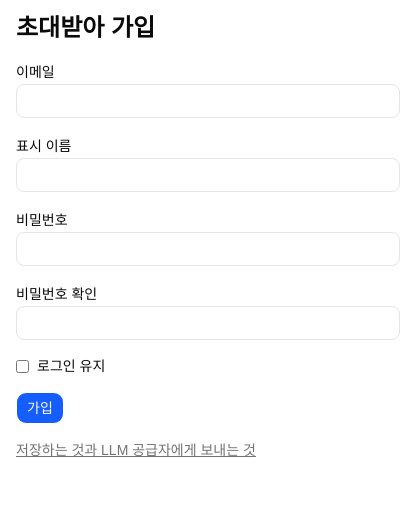
Test: InvitePage 봇 차단 · 요청 제한 › 봇 차단을 켠 인스턴스여도 초대 가입에는 위젯이 없고 토큰 없이 보낸다
In the field labelled "이메일": (208, 101) [16,84,400,118], type "kim@example.com"
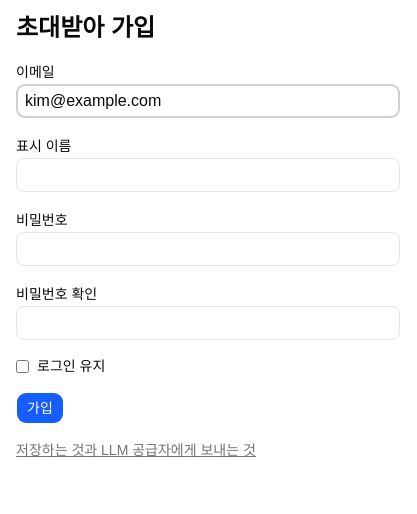
In the field labelled "표시 이름": (208, 175) [16,158,400,192], type "김요즘"
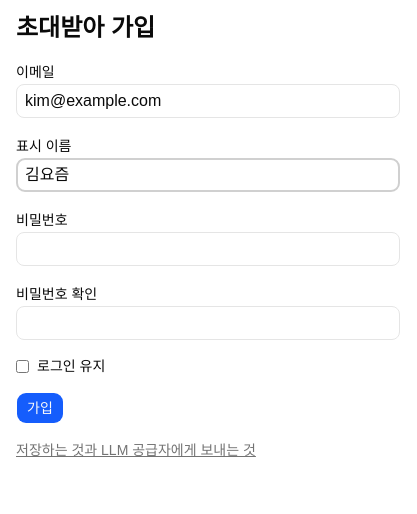
In the password field labelled "비밀번호": (208, 249) [16,232,400,266], type "correct horse"
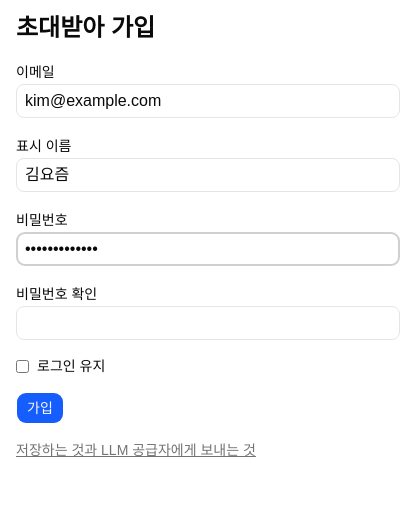
In the password field labelled "비밀번호 확인": (208, 323) [16,306,400,340], type "correct horse"
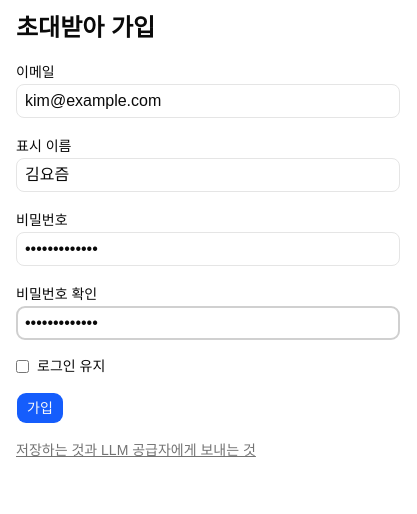
Click the button "가입": click(40, 408) [16,392,64,424]
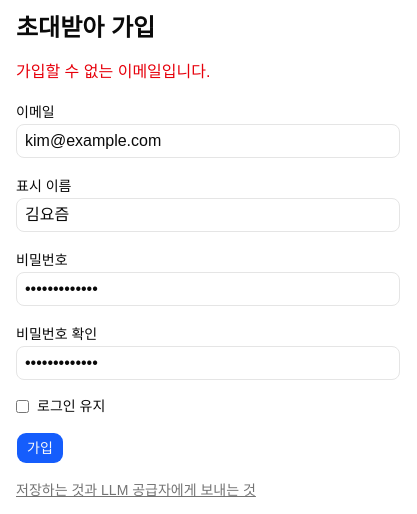
Result: the message reads "가입할 수 없는 이메일입니다." at [16,63,210,80]
